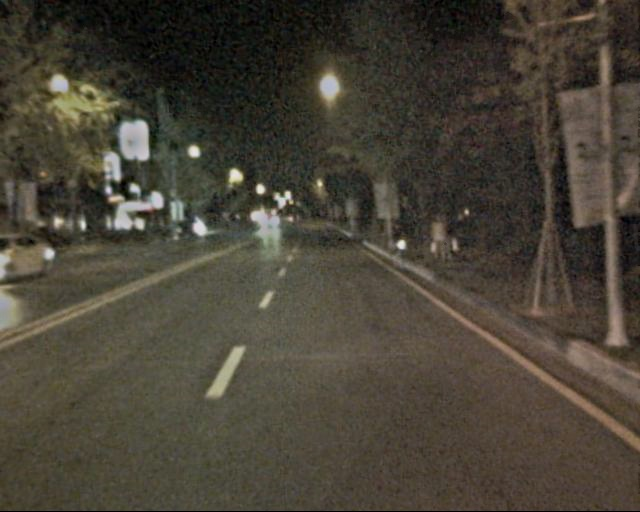person: (389, 224, 410, 271), (439, 214, 459, 263), (429, 215, 448, 262)
